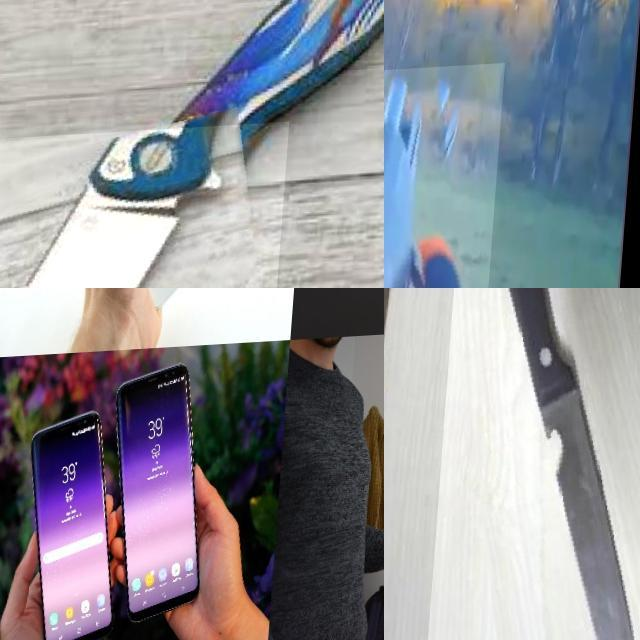-: (430, 288, 640, 640), (0, 127, 293, 288)
gun-knife-thesis - v11 Yolov5 augmented: (384, 69, 516, 288)
